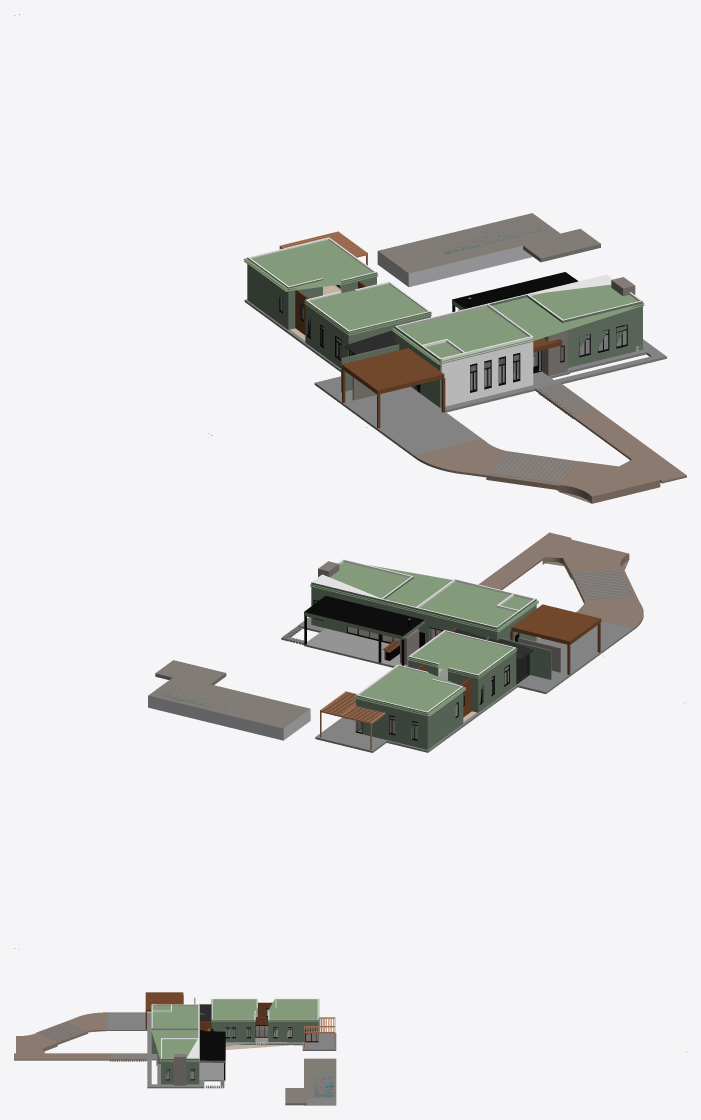
The model's file is casa1.glb.
3 renders of one model, top to bottom at view 1: azimuth 30°, elevation 25°; view 2: azimuth 150°, elevation 25°; view 3: azimuth 270°, elevation 25°, orthographic. The views are drawn at different scales.
Parts seen in each view (by area): view 1: Mesh419, Mesh406, Mesh410, Mesh380, Mesh382, Mesh414, Mesh418, Mesh404, Mesh405, Mesh362, Mesh402, Mesh403 (+3 smaller); view 2: Mesh382, Mesh419, Mesh406, Mesh380, Mesh410, Mesh418, Mesh359, Mesh362, Mesh405, Mesh404, Mesh402, Mesh403 (+3 smaller); view 3: Mesh419, Mesh406, Mesh382, Mesh410, Mesh380, Mesh404, Mesh418, Mesh359, Mesh386, Mesh405, Mesh402, Mesh403 (+4 smaller).
Boxes of the visible parts, x1=… form: Mesh419: x1=244, y1=285, x2=666, y2=457; Mesh406: x1=392, y1=284, x2=644, y2=362; Mesh410: x1=243, y1=239, x2=431, y2=333; Mesh380: x1=377, y1=213, x2=562, y2=286; Mesh382: x1=247, y1=237, x2=430, y2=368; Mesh414: x1=395, y1=322, x2=533, y2=407; Mesh418: x1=394, y1=274, x2=642, y2=367; Mesh404: x1=535, y1=382, x2=686, y2=483; Mesh405: x1=557, y1=459, x2=660, y2=503; Mesh362: x1=341, y1=348, x2=444, y2=394; Mesh402: x1=414, y1=439, x2=505, y2=477; Mesh403: x1=486, y1=451, x2=578, y2=490; Mesh382: x1=356, y1=630, x2=516, y2=749; Mesh419: x1=297, y1=617, x2=633, y2=752; Mesh406: x1=310, y1=562, x2=538, y2=630; Mesh380: x1=148, y1=676, x2=310, y2=740; Mesh410: x1=354, y1=632, x2=517, y2=715; Mesh418: x1=311, y1=559, x2=497, y2=643; Mesh359: x1=304, y1=596, x2=424, y2=639; Mesh362: x1=511, y1=604, x2=601, y2=645; Mesh405: x1=542, y1=539, x2=629, y2=579; Mesh404: x1=478, y1=532, x2=571, y2=589; Mesh402: x1=576, y1=597, x2=643, y2=629; Mesh403: x1=571, y1=569, x2=636, y2=603; Mesh419: x1=107, y1=1012, x2=336, y2=1088; Mesh406: x1=151, y1=1005, x2=199, y2=1060; Mesh382: x1=211, y1=998, x2=318, y2=1042; Mesh410: x1=211, y1=998, x2=319, y2=1020; Mesh380: x1=304, y1=1058, x2=336, y2=1105; Mesh404: x1=14, y1=1053, x2=147, y2=1060; Mesh418: x1=161, y1=1004, x2=199, y2=1084; Mesh359: x1=199, y1=1031, x2=225, y2=1062; Mesh386: x1=191, y1=1026, x2=317, y2=1078; Mesh405: x1=16, y1=1032, x2=57, y2=1053; Mesh402: x1=67, y1=1012, x2=107, y2=1032; Mesh403: x1=36, y1=1021, x2=88, y2=1044.
Bounding box in the file's own units: 47.36 × 6.19 × 107.
